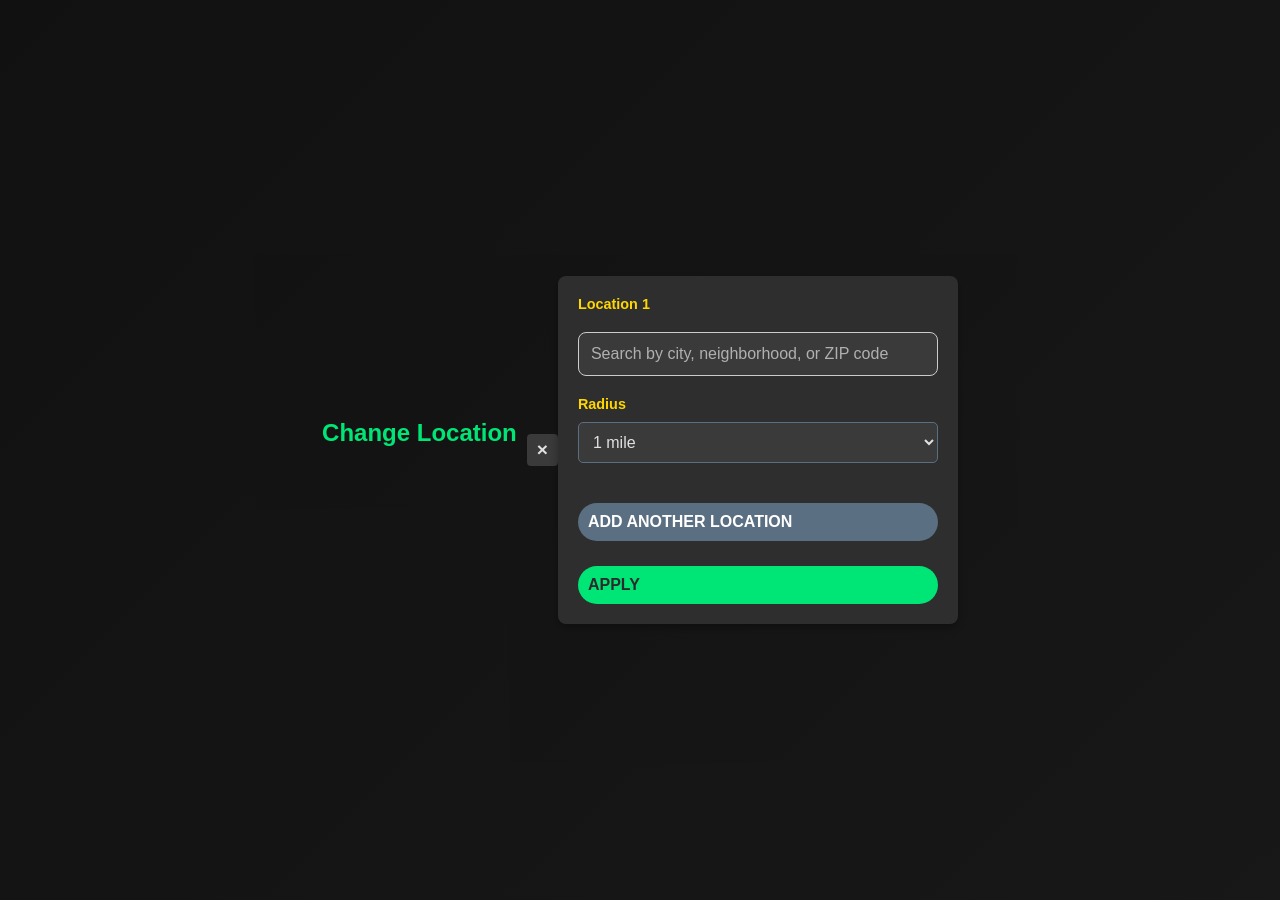
it: LocationPage Component › adds a new location entry
Click the button "Add Another Location".
click(758, 522)  # box [578,503,938,541]
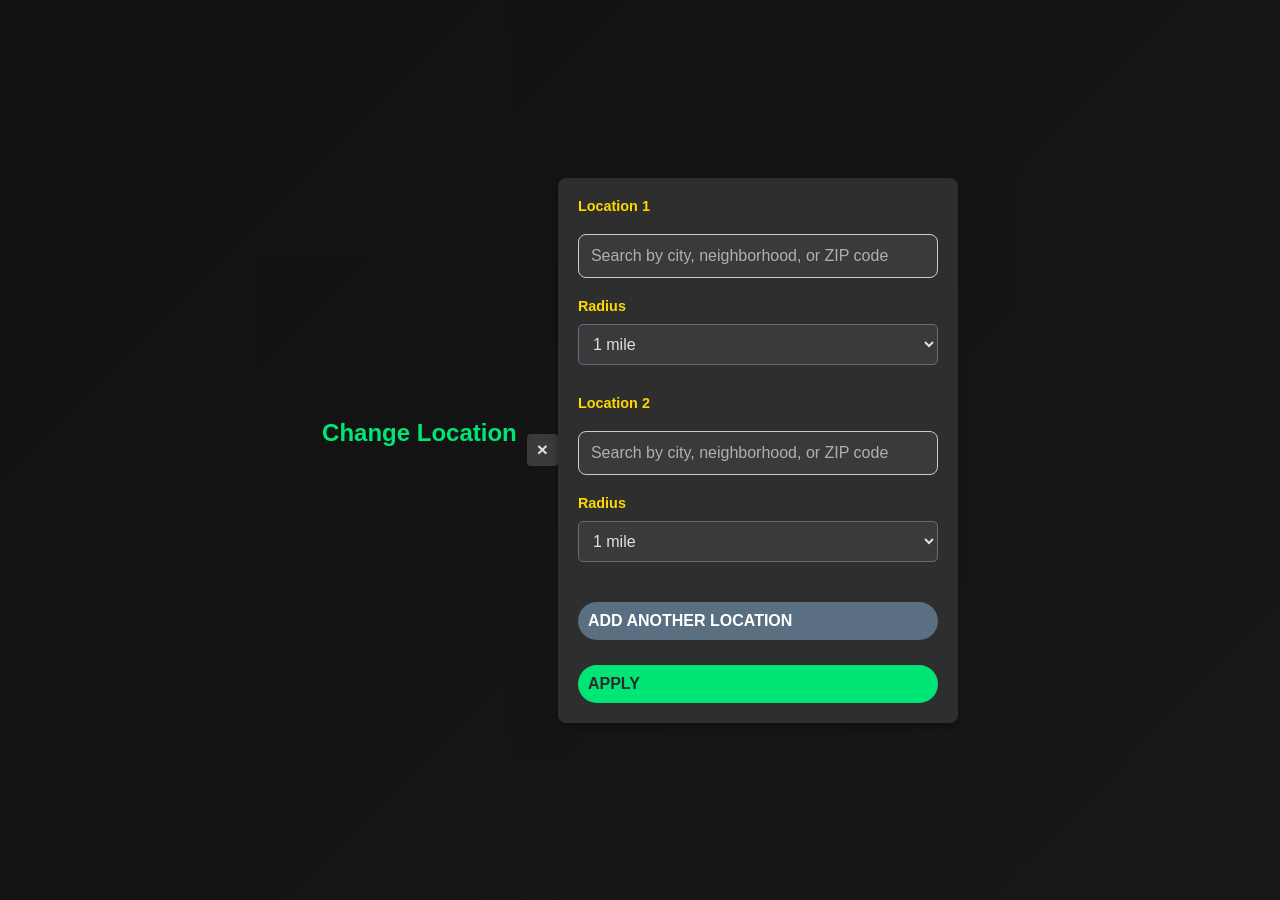
Expected: the number of fields with placeholder "Search by city, neighborhood, or ZIP code" is 2, [578,234,938,278]; [578,430,938,474]
